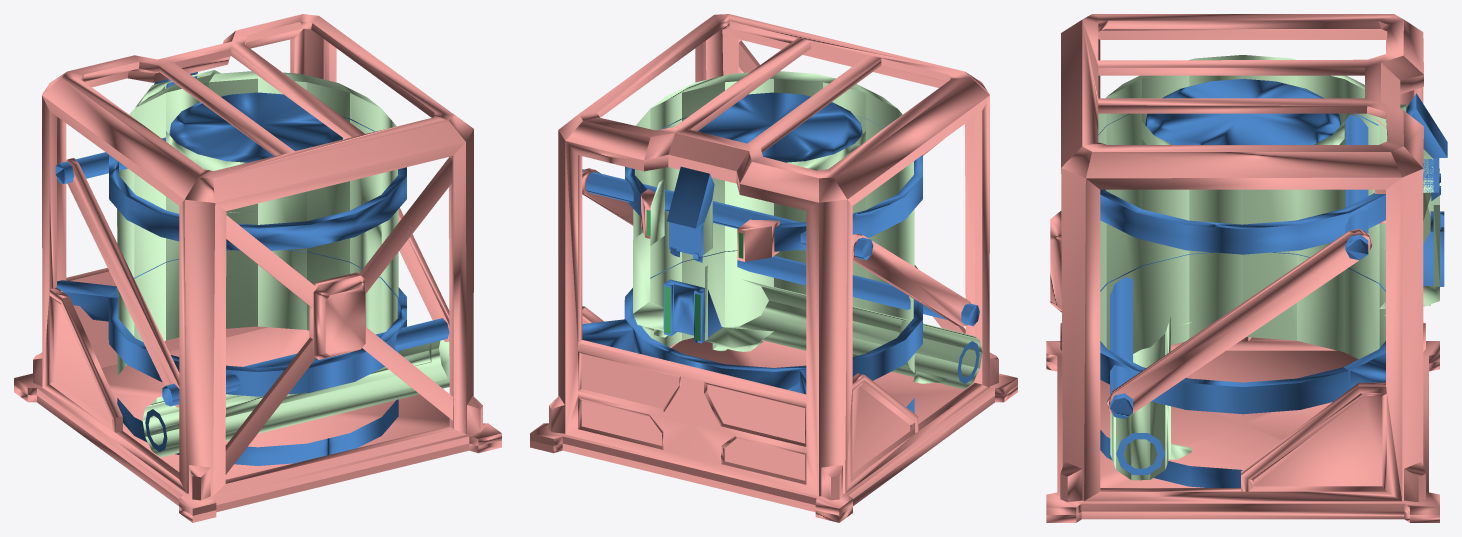
File: tank_hazardous_1_0125x0125x0125_a.glb
The picture shows the model from 3 angles, left to right: view 1: azimuth 30°, elevation 25°; view 2: azimuth 150°, elevation 25°; view 3: azimuth 270°, elevation 25°; orthographic projection. The views are drawn at different scales.
Bounding box in the file's own units: 1.25 × 1.25 × 1.27.
